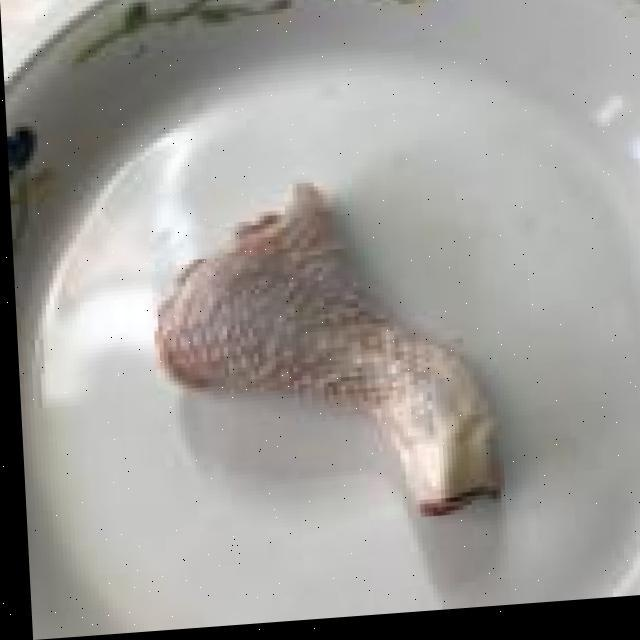leg: (117, 159, 506, 536)
